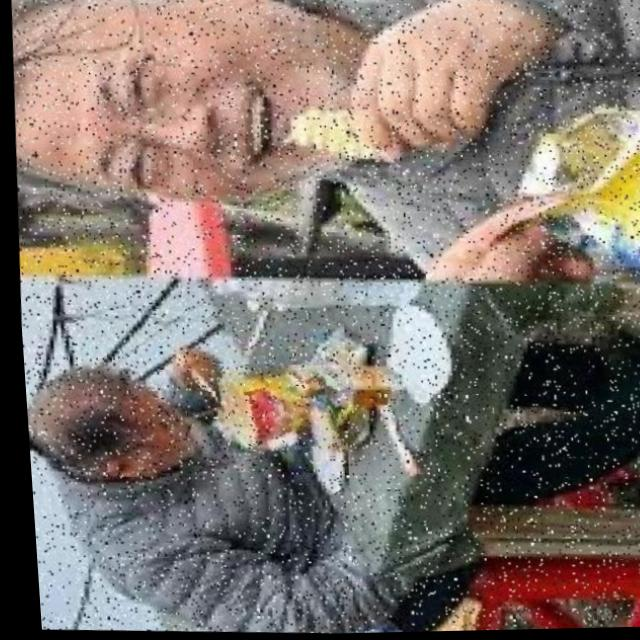Miscellaneous: (208, 360, 334, 462)
